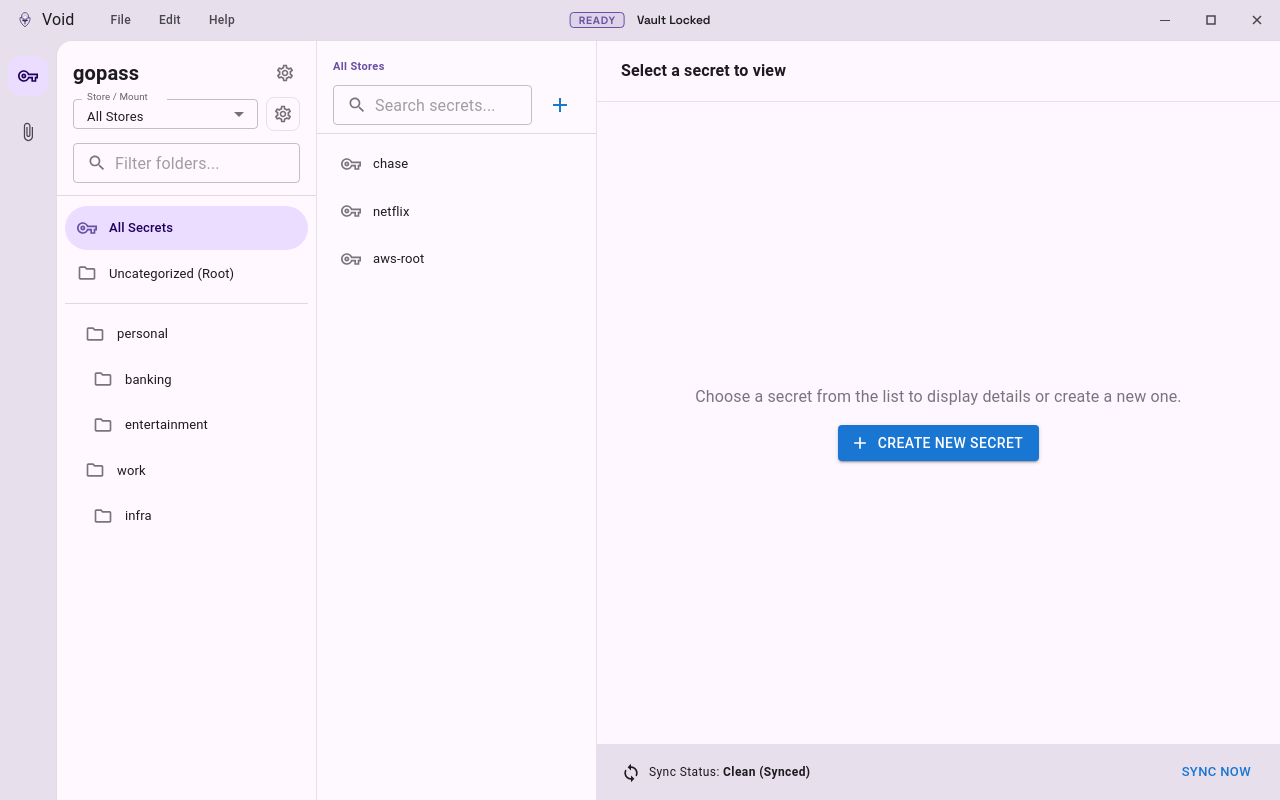
it: Dashboard Component › loads and displays details when a secret is clicked
# Select banking folder
What coordinates should you click on to do the following:
click the text "banking"
I would click on:
 (148, 379)
Its box is left=125, top=372, right=172, bottom=386.
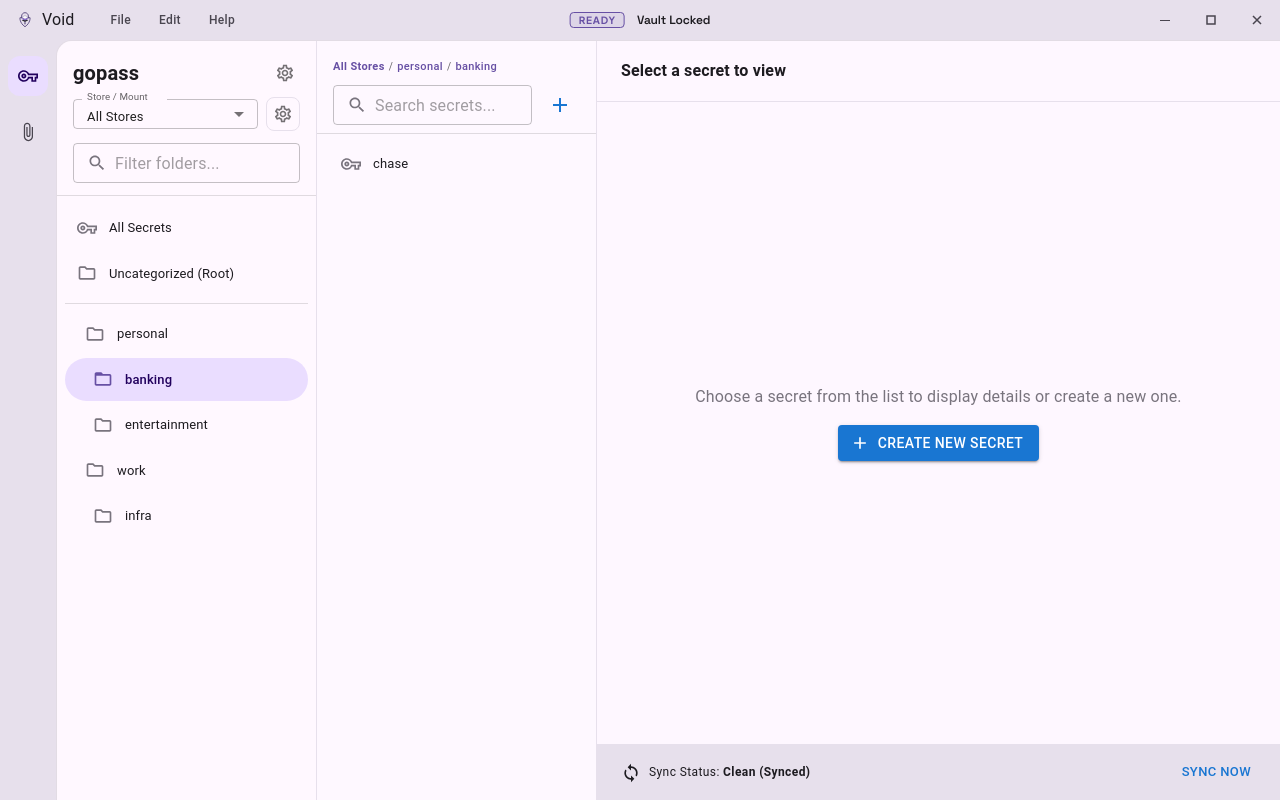
# Click secret
What coordinates should you click on to do the following:
click the text "chase"
I would click on:
 (391, 164)
Its box is left=373, top=156, right=408, bottom=171.
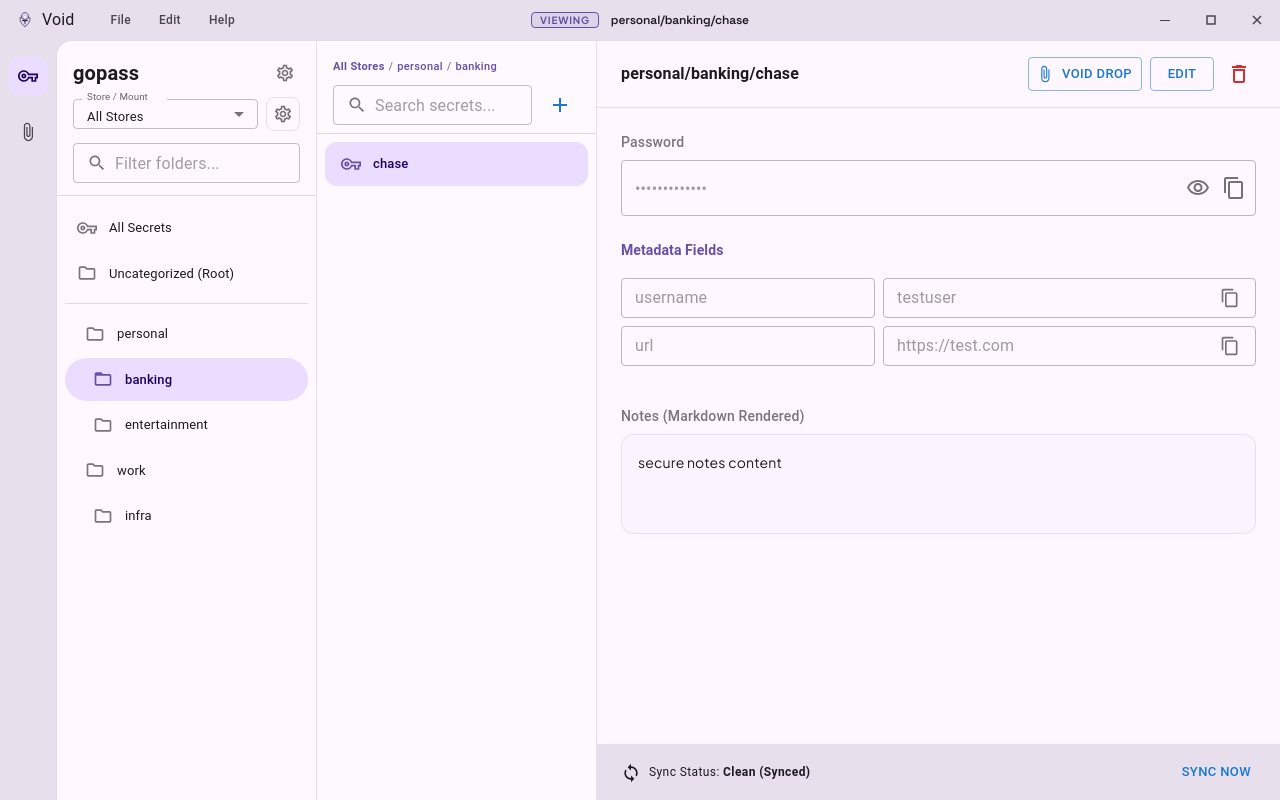
Expected: the text "personal/banking/chase" is shown, left=611, top=11, right=749, bottom=29
Expected: the 2nd field showing "testuser" is shown, left=883, top=278, right=1207, bottom=318
Expected: the text "secure notes content" is shown, left=638, top=453, right=782, bottom=471
